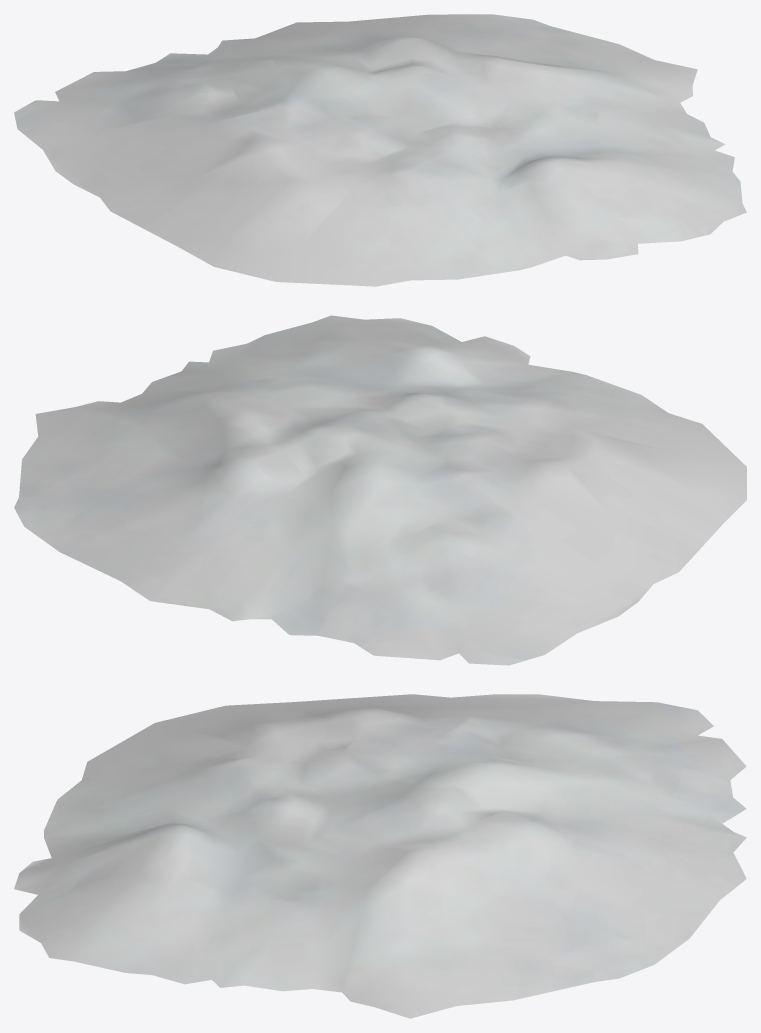
Rendered from snow_mound_b.glb.
The picture shows the model from 3 angles, top to bottom: view 1: azimuth 30°, elevation 25°; view 2: azimuth 150°, elevation 25°; view 3: azimuth 270°, elevation 25°; orthographic projection. The views are drawn at different scales.
Parts seen in each view (by area): view 1: snow_mound_b_LOD0; view 2: snow_mound_b_LOD0; view 3: snow_mound_b_LOD0.
Part boxes in pixels (box(x1,y1,x2,y2)): snow_mound_b_LOD0: box(14, 14, 746, 286); snow_mound_b_LOD0: box(14, 315, 746, 665); snow_mound_b_LOD0: box(14, 694, 746, 1018).
Bounding box in the file's own units: 5.53 × 0.5425 × 5.28.
Materials: 1 (1 with a texture image).
